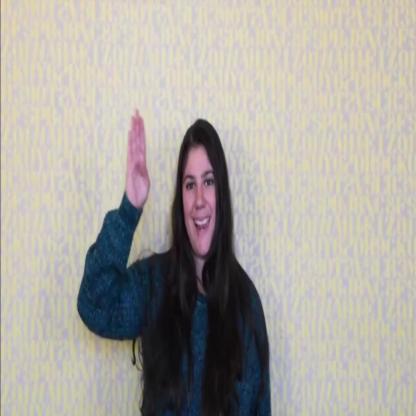Hello: (104, 86, 254, 337)
